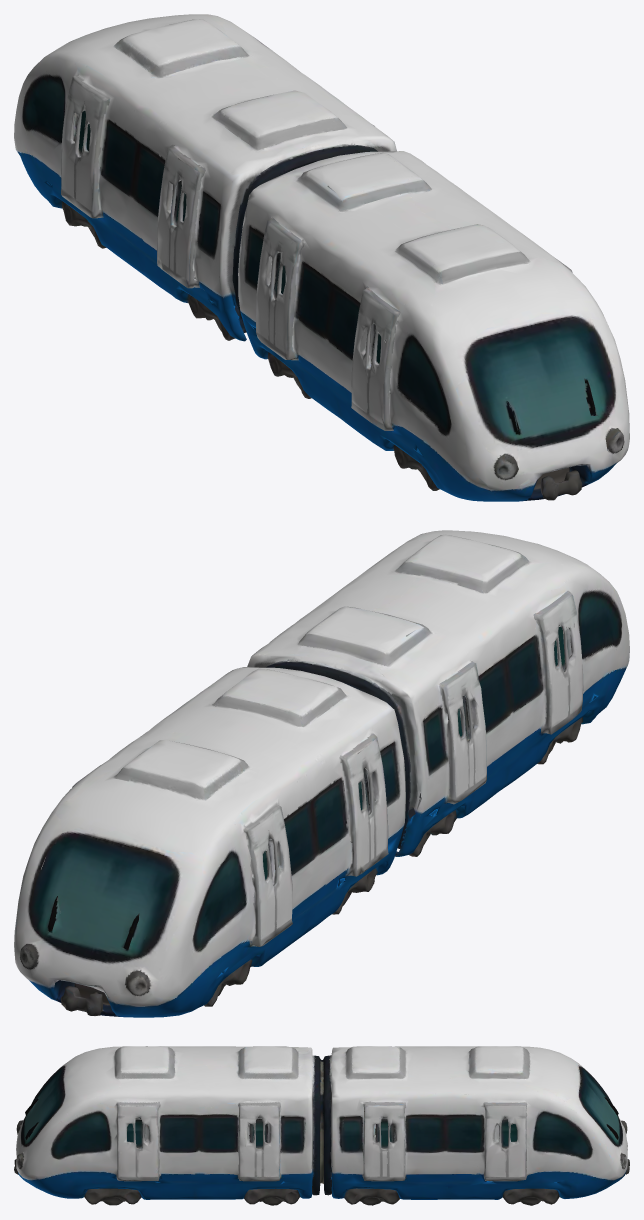
File: bb_monorail.glb
3 renders of one model, top to bottom at view 1: azimuth 30°, elevation 25°; view 2: azimuth 150°, elevation 25°; view 3: azimuth 270°, elevation 25°, orthographic. The views are drawn at different scales.
Size of the model in its own units: 0.2389 by 0.2346 by 0.9999.
Materials: 1 (1 with a texture image).
